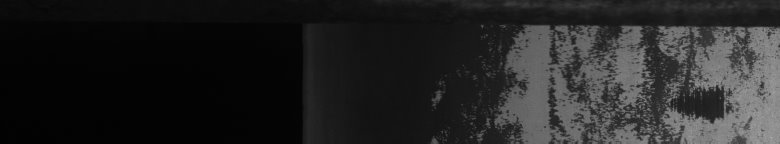kb: (524, 20, 776, 136)
